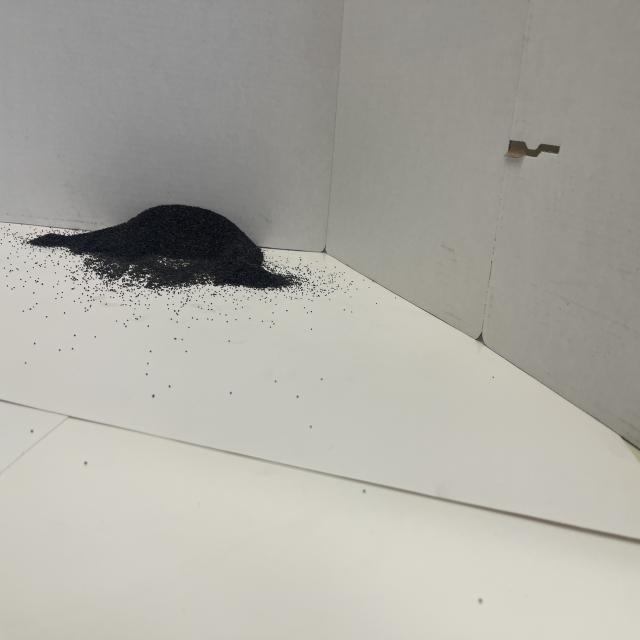Poppy Seeds: (43, 162, 287, 306)
